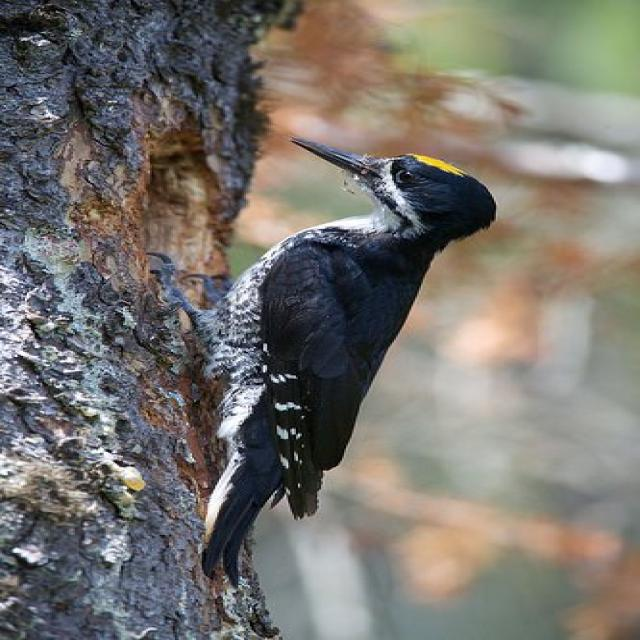Woodpecker: (179, 112, 503, 608)
